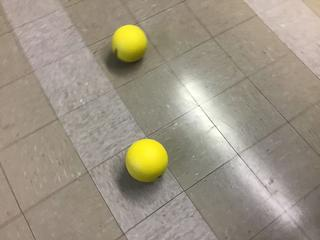power_cell: (122, 138, 170, 185), (110, 22, 152, 66)
